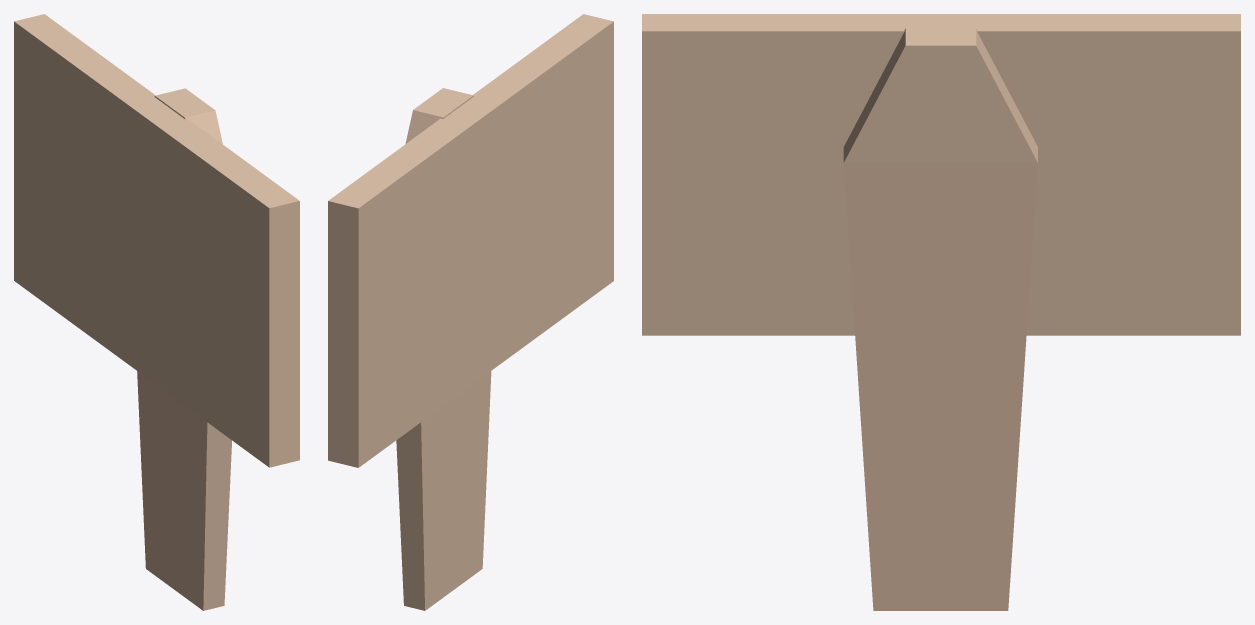
File: vallav2.fbx
3 views of the same model, side by side, from view 1: azimuth 30°, elevation 25°; view 2: azimuth 150°, elevation 25°; view 3: azimuth 270°, elevation 25° (orthographic). The views are drawn at different scales.
Parts seen in each view (by area): view 1: Cube.005; view 2: Cube.005; view 3: Cube.005.
Part boxes in pixels (x1=…): Cube.005: x1=14, y1=14, x2=299, y2=610; Cube.005: x1=328, y1=14, x2=613, y2=610; Cube.005: x1=642, y1=14, x2=1240, y2=610.
Size of the model in its own units: 41.82 by 331 by 317.
